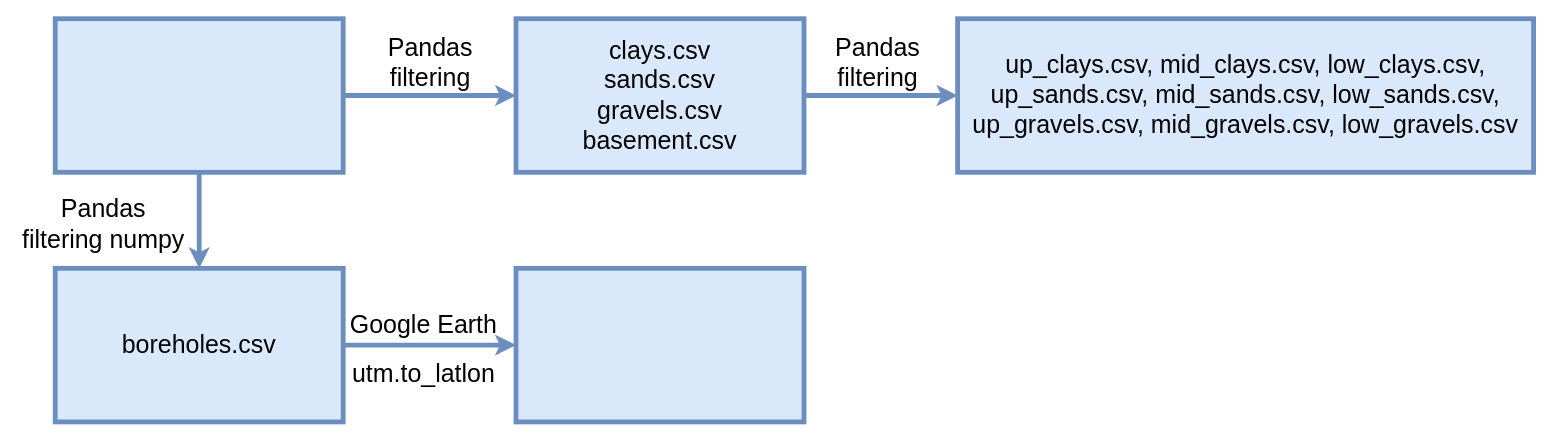
The diagram is 1552 pixels wide and 441 high, and some of its shapes have lost their labels. Each missing label, with the centre of its shape:
"data.csv (One row per measurement)" goes at (x=198, y=95).
"Delta contour" goes at (x=659, y=344).
